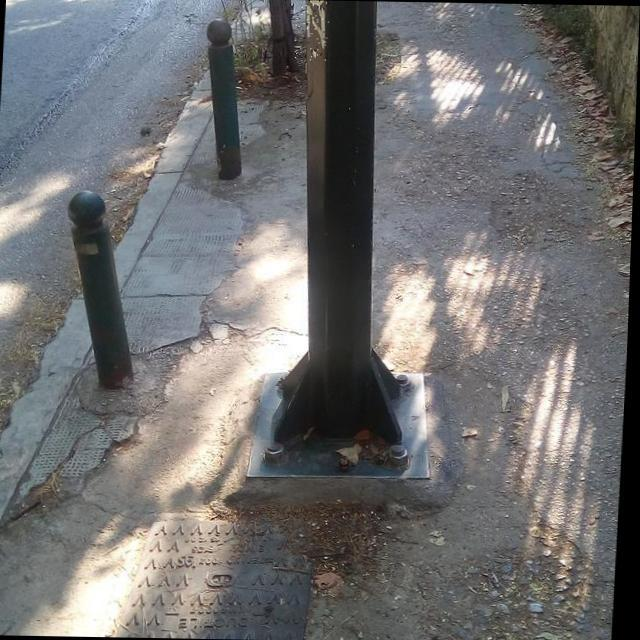-: (293, 0, 329, 60)
